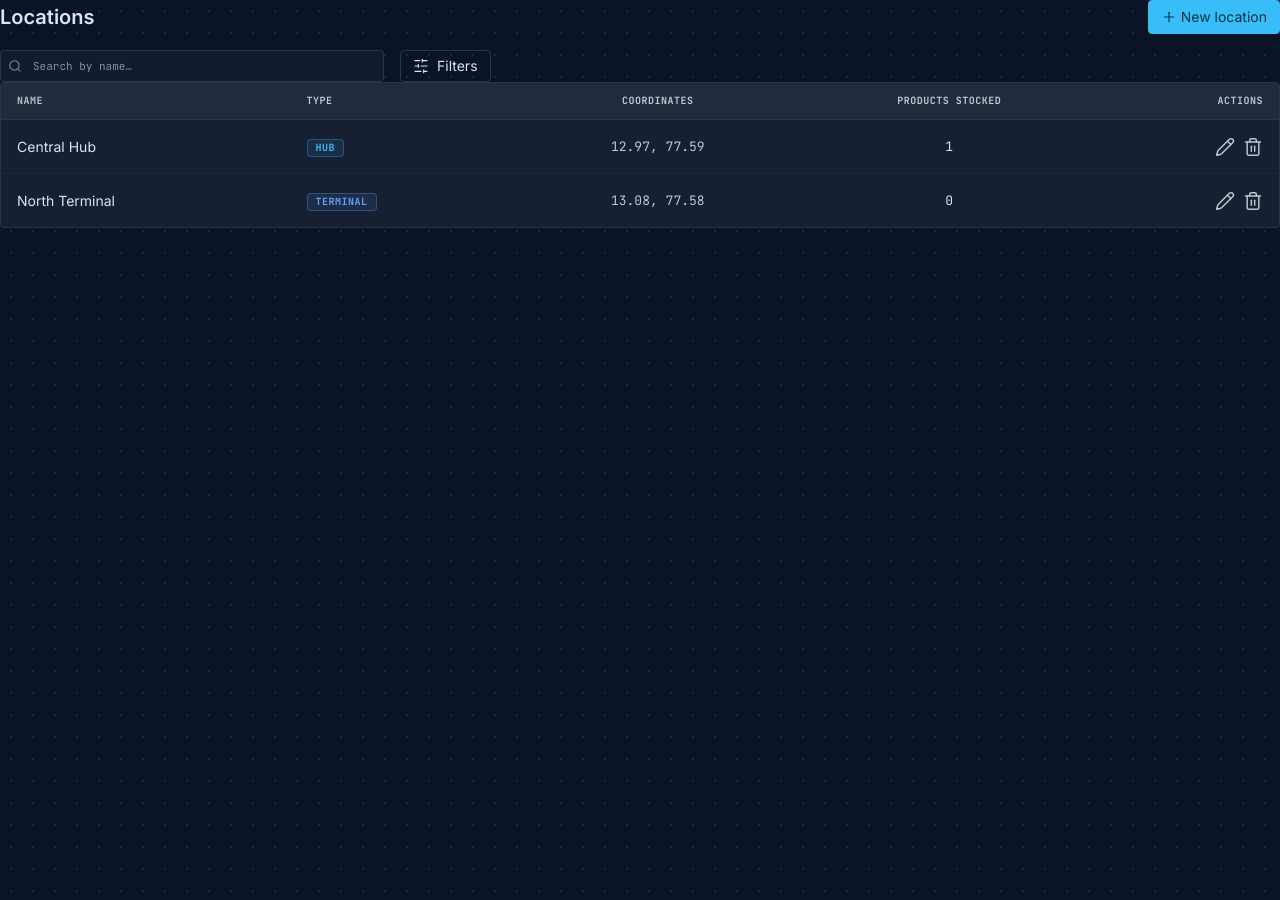
Test: Locations page › shows an error toast when the server rejects a create
The image size is (1280, 900).
Expected: the text "Central Hub" is shown, [1, 120, 291, 174]
Click the button "New location". click: (1214, 17)
box: [1148, 0, 1279, 34]
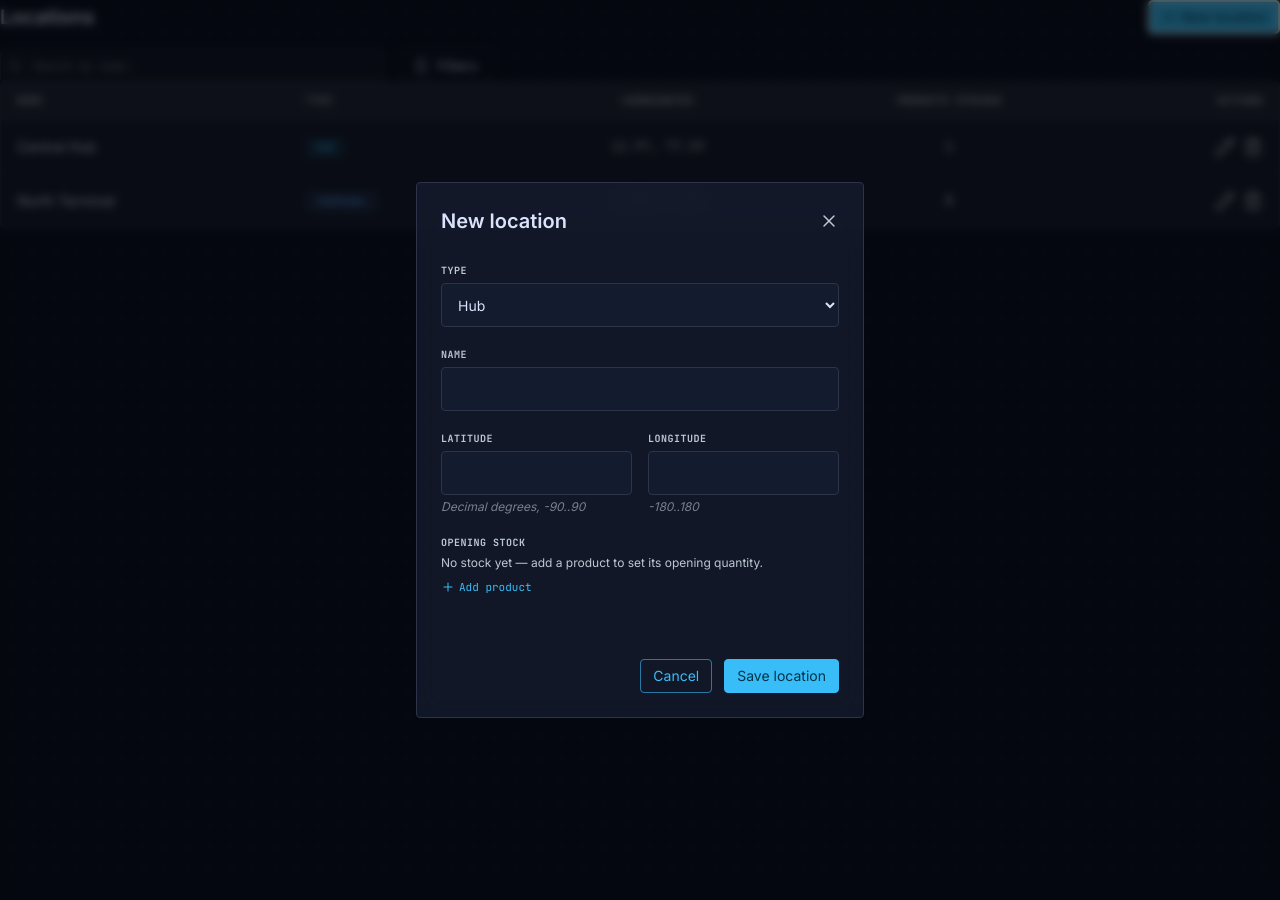
Type "Dup Hub" into the field labelled "Name". click: (640, 389)
box: [441, 367, 839, 411]
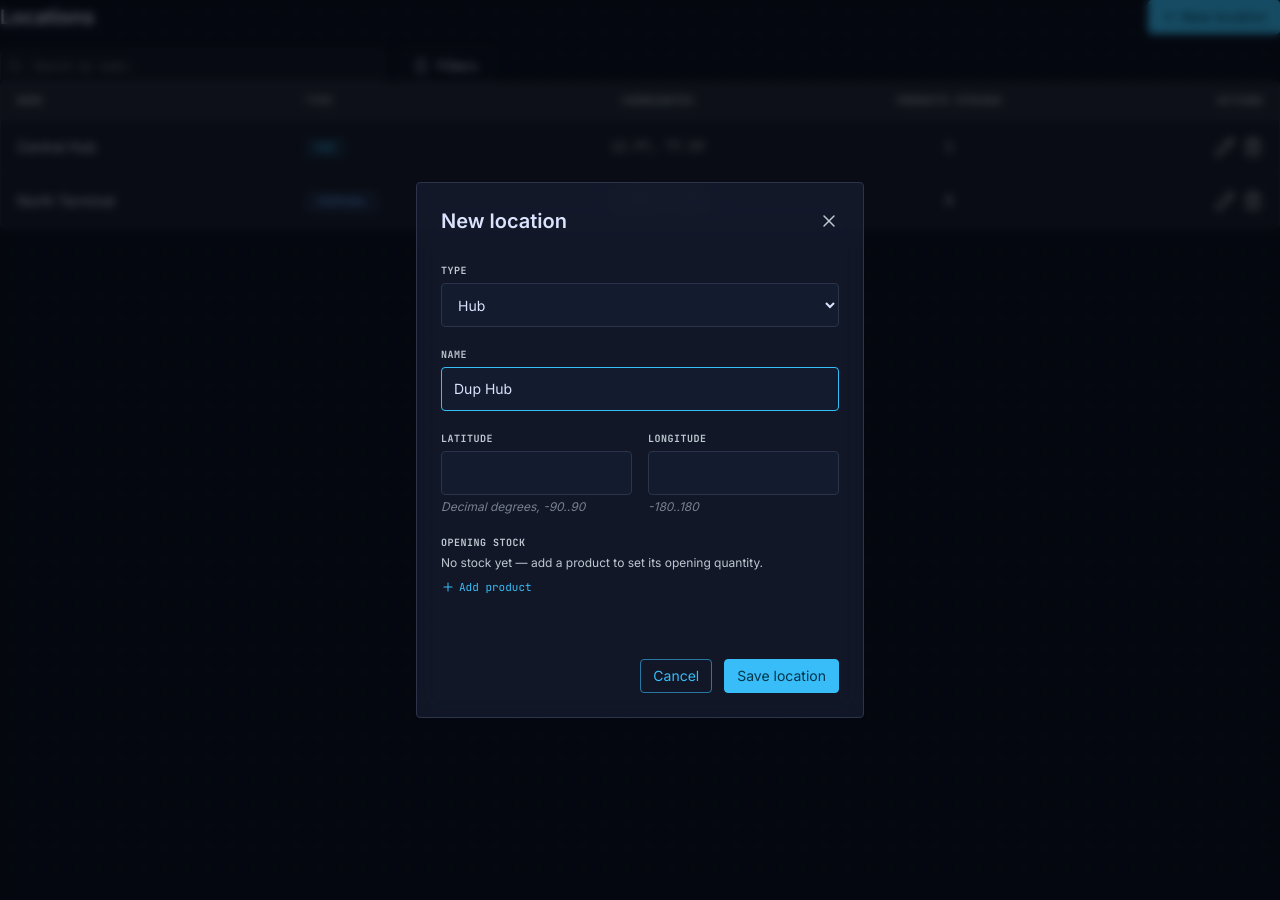
Type "12.5" into the field labelled "Latitude". click: (536, 473)
box: [441, 451, 632, 495]
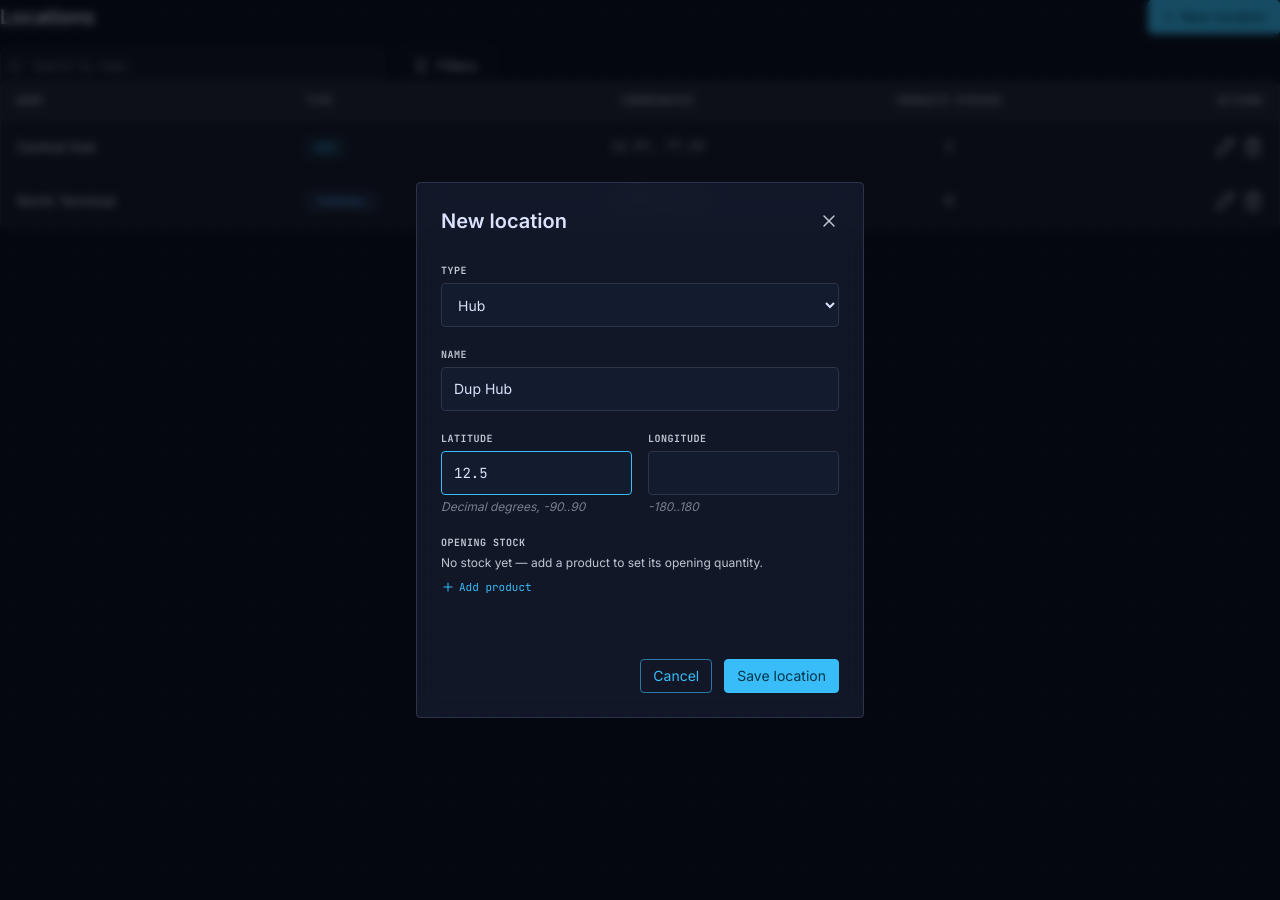
Type "77.1" into the field labelled "Longitude". click: (744, 473)
box: [648, 451, 839, 495]
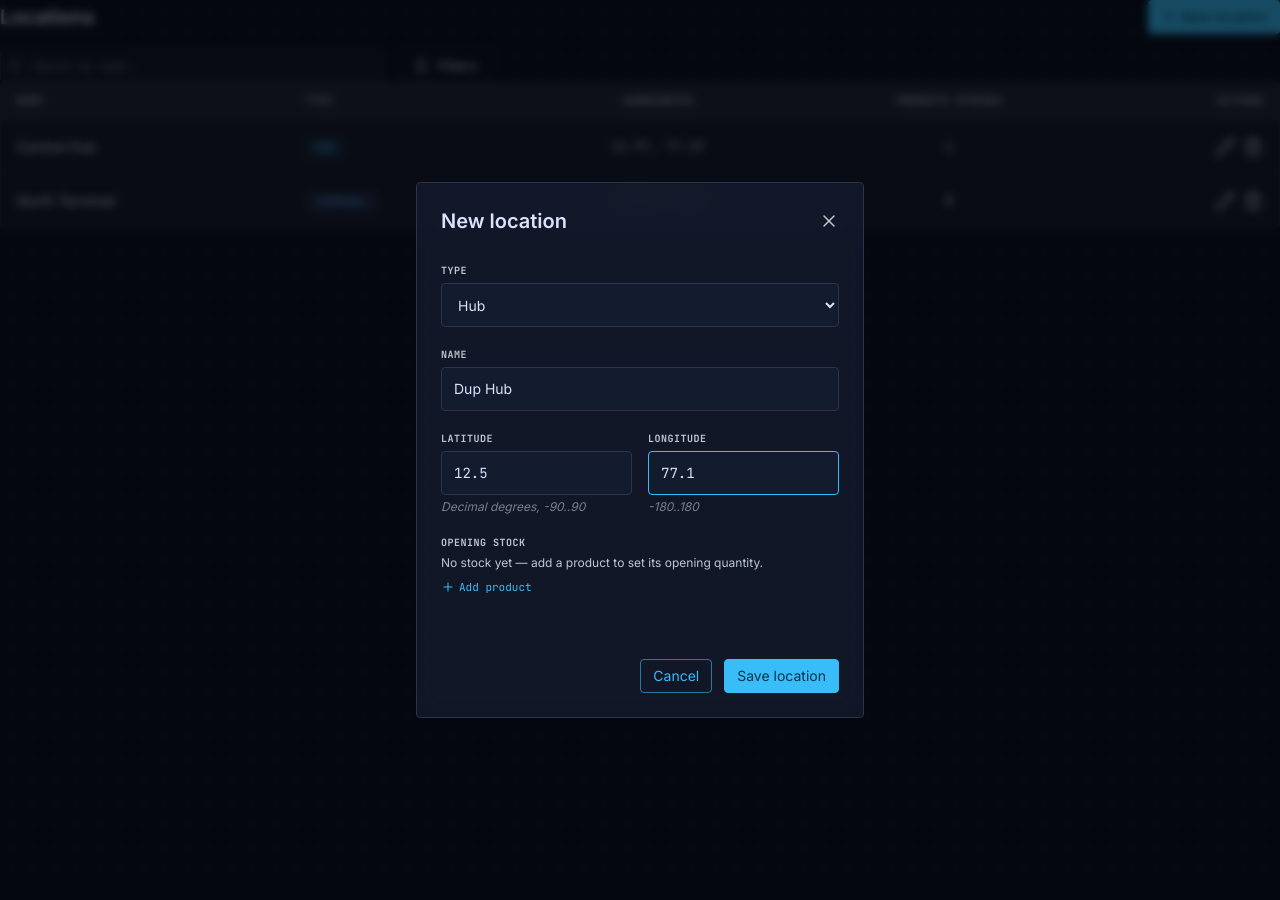
Click the button "Save location". click: (782, 676)
box: [724, 659, 839, 693]
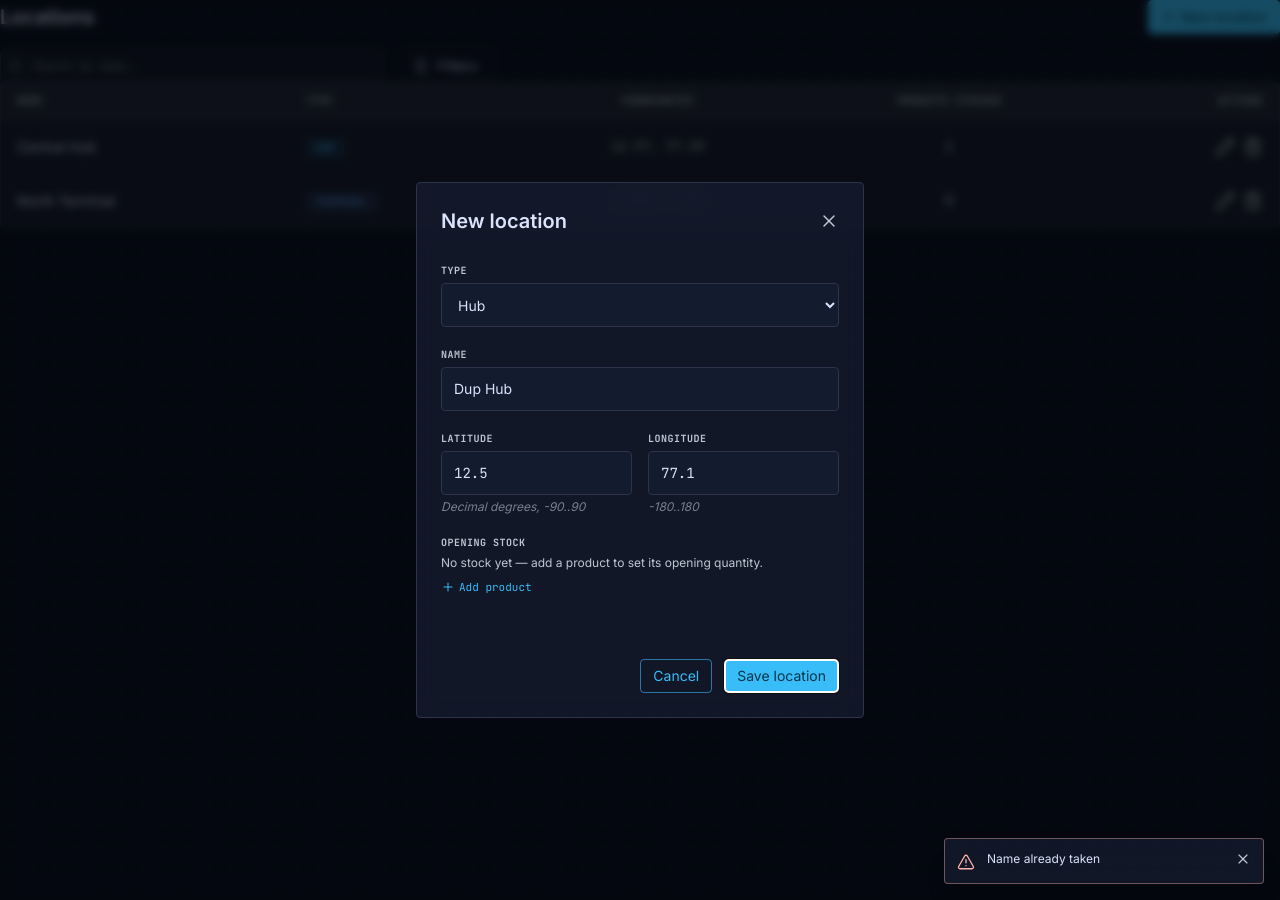
Expected: the text "Name already taken" is shown, [987, 851, 1100, 866]
